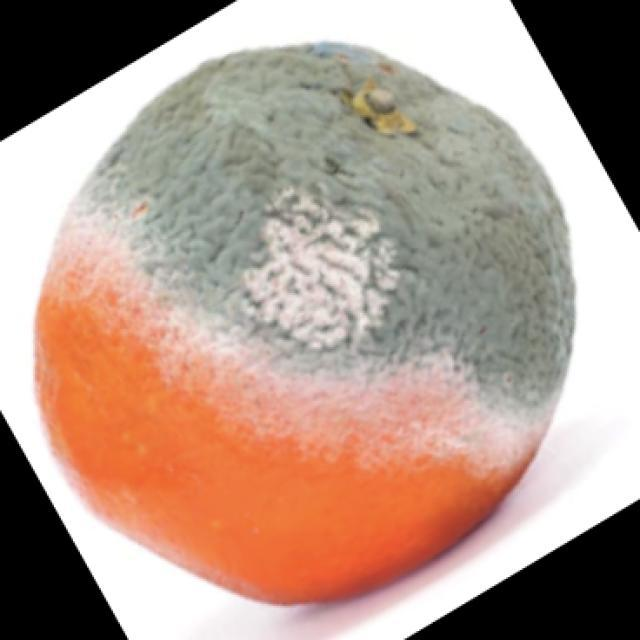sangat-busuk: (36, 43, 574, 600)
